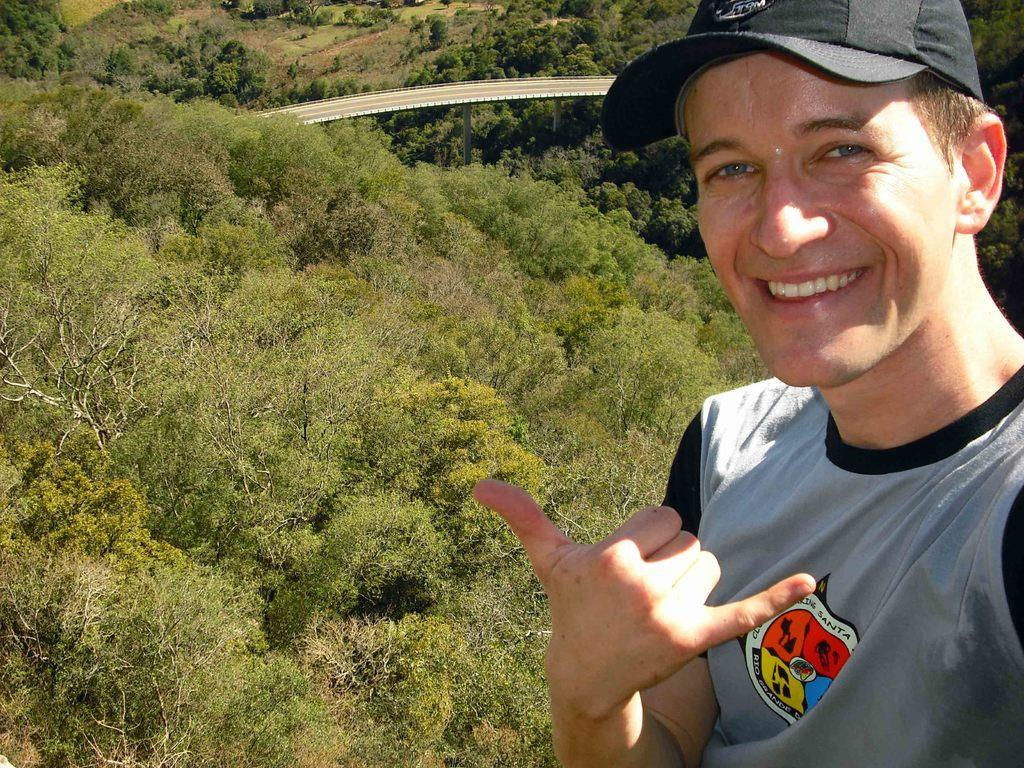Hat: (598, 0, 982, 156)
